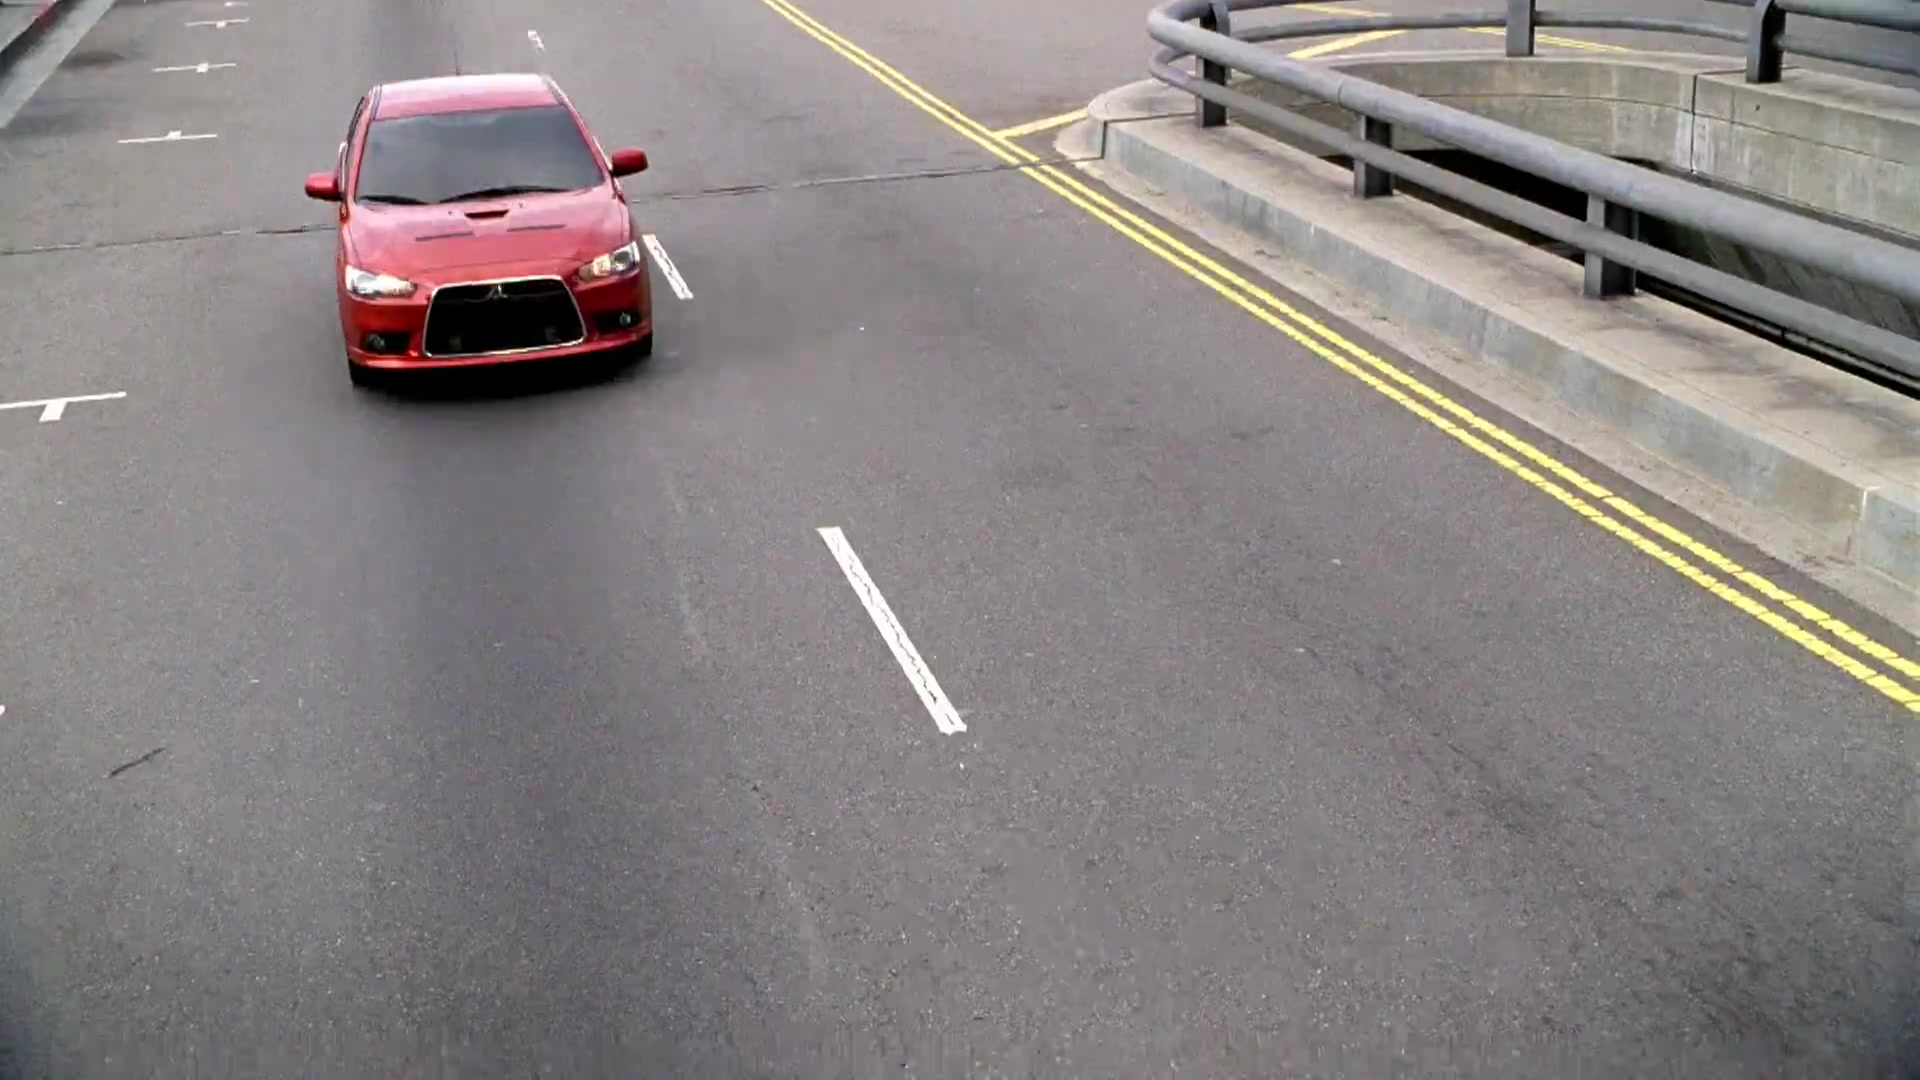car: (301, 73, 662, 404)
